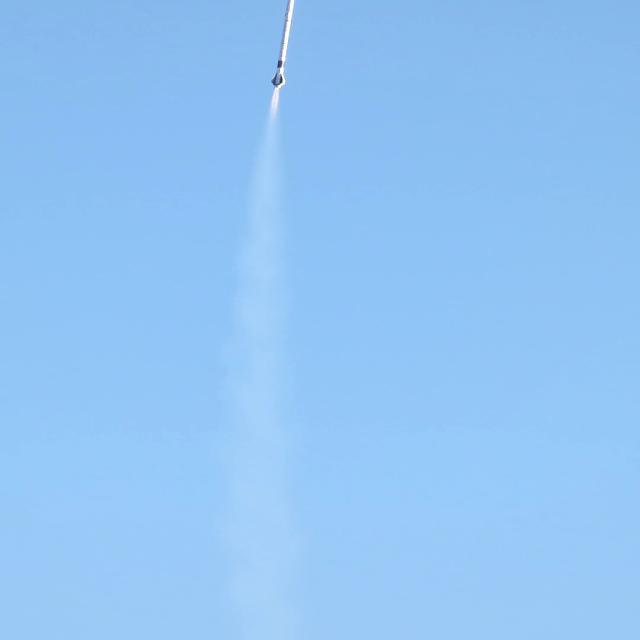Rocket: (271, 0, 295, 89)
